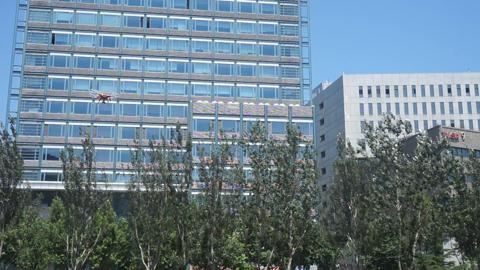UAV: (90, 89, 120, 106)
